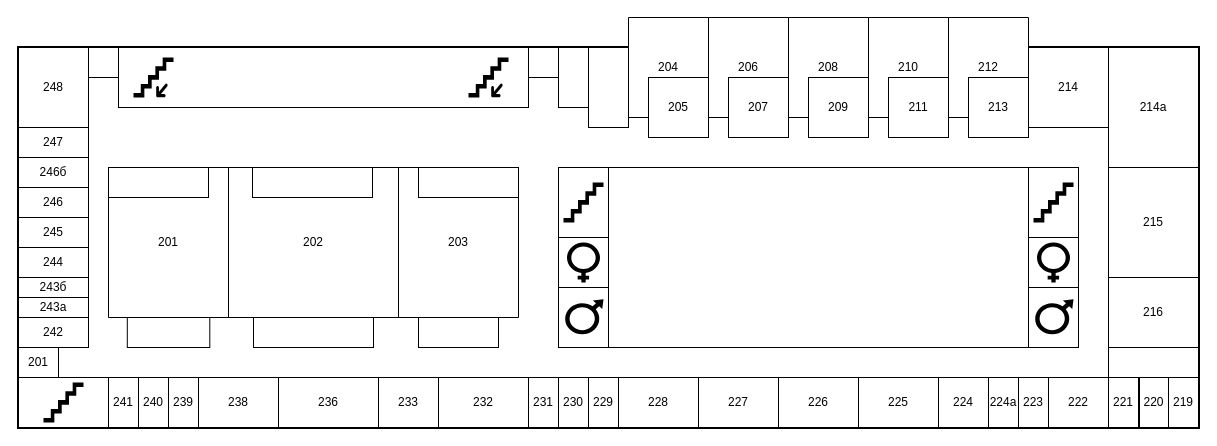
Image size: 1217x446. Some labels were removed from this diagram. Each missing label, with the box of its shape:
201б: (108, 166, 208, 198)
202б: (252, 166, 372, 198)
203б: (418, 166, 518, 198)
